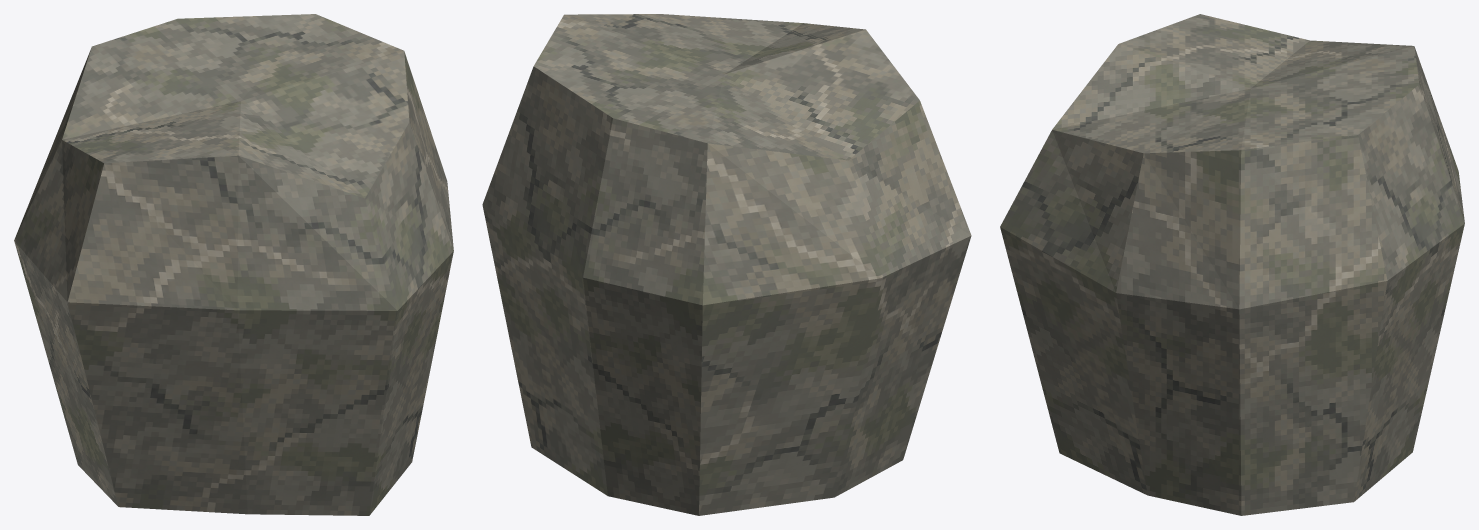
The model's file is Masso_05_Blocco.obj.
The picture shows the model from 3 angles, left to right: view 1: azimuth 30°, elevation 25°; view 2: azimuth 150°, elevation 25°; view 3: azimuth 270°, elevation 25°; orthographic projection. The views are drawn at different scales.
Parts seen in each view (by area): view 1: Masso_05_Blocco; view 2: Masso_05_Blocco; view 3: Masso_05_Blocco.
Part boxes in pixels (bbox=[...]): Masso_05_Blocco: bbox=[14, 14, 453, 515]; Masso_05_Blocco: bbox=[482, 14, 971, 515]; Masso_05_Blocco: bbox=[1000, 14, 1464, 515].
Size of the model in its own units: 1.5 by 1.3 by 1.5.
Materials: 1 (1 with a texture image).
